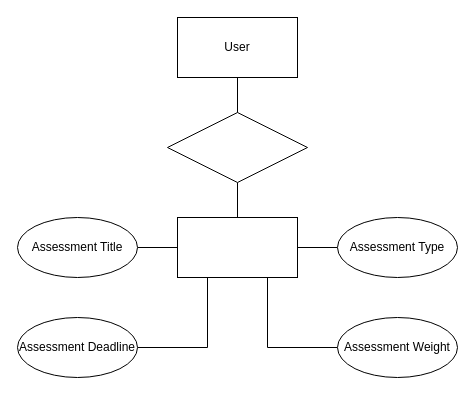
Some shapes in this 475 by 395 pixel diagram are drawn without their labels. The box of each missing label's shape, as (x1, y1, x2, y2) in pixels:
Assessment Information: (176, 216, 298, 278)
Displays: (166, 112, 308, 182)
